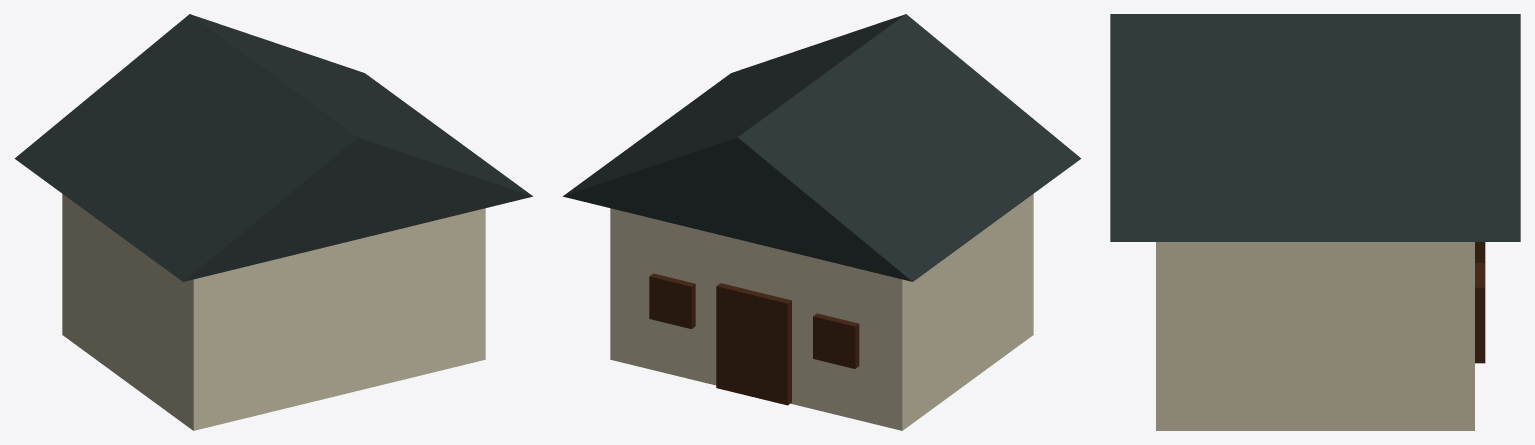
The model's file is house_small.obj.
The picture shows the model from 3 angles, left to right: view 1: azimuth 30°, elevation 25°; view 2: azimuth 150°, elevation 25°; view 3: azimuth 270°, elevation 25°; orthographic projection. The views are drawn at different scales.
Parts seen in each view (by area): view 1: house_small; view 2: house_small; view 3: house_small.
Boxes of the visible parts, bbox=[...] form: house_small: bbox=[14, 14, 532, 430]; house_small: bbox=[563, 14, 1081, 430]; house_small: bbox=[1110, 14, 1520, 430].
Size of the model in its own units: 10.8 by 8 by 9.
